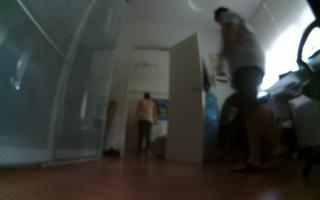person: (209, 6, 289, 180), (131, 90, 162, 163)
